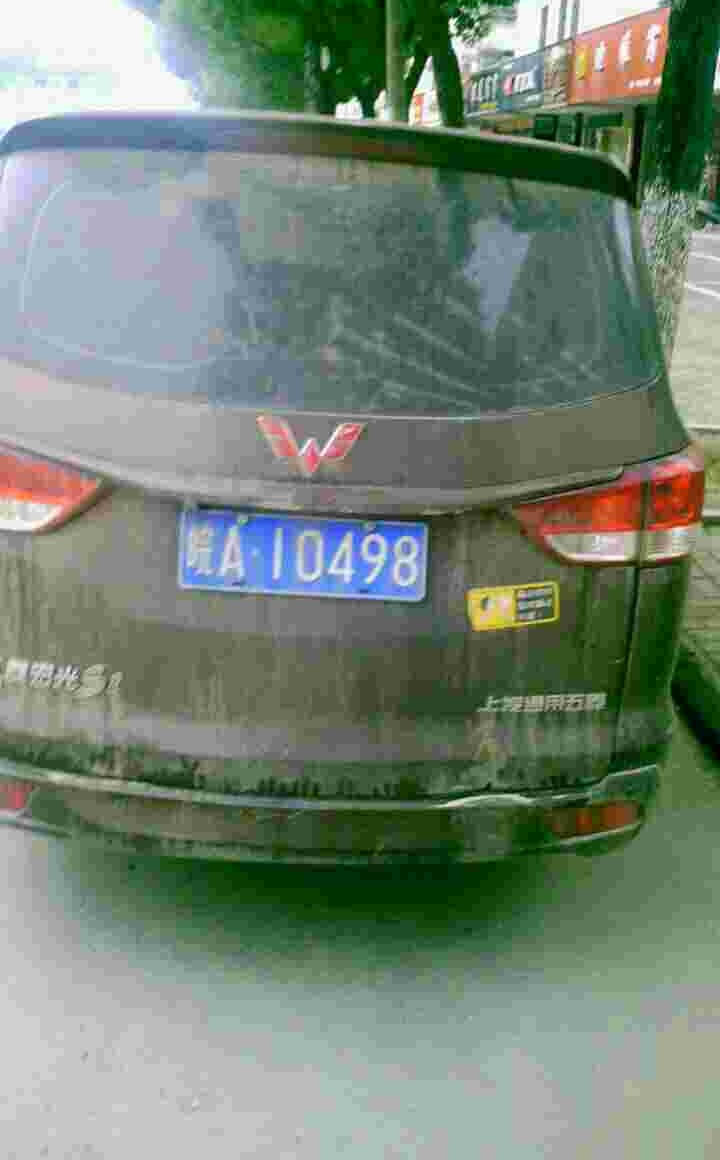plate: (179, 504, 435, 606)
